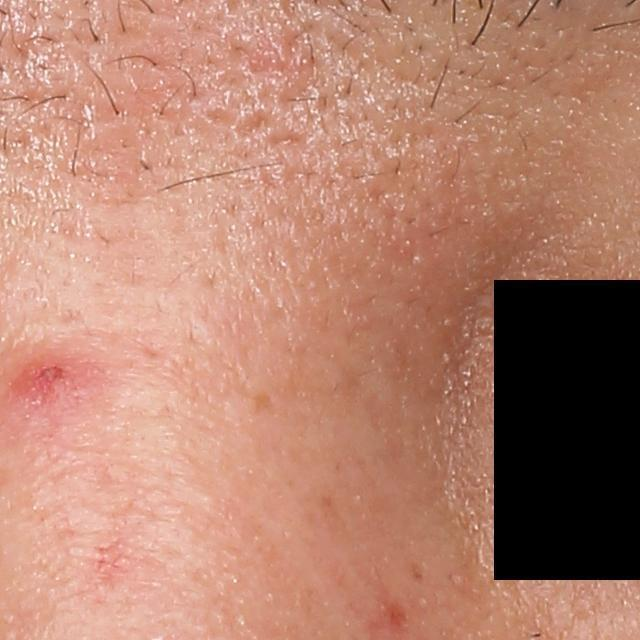melasma: (410, 559, 426, 581)
papule: (7, 345, 89, 402)
